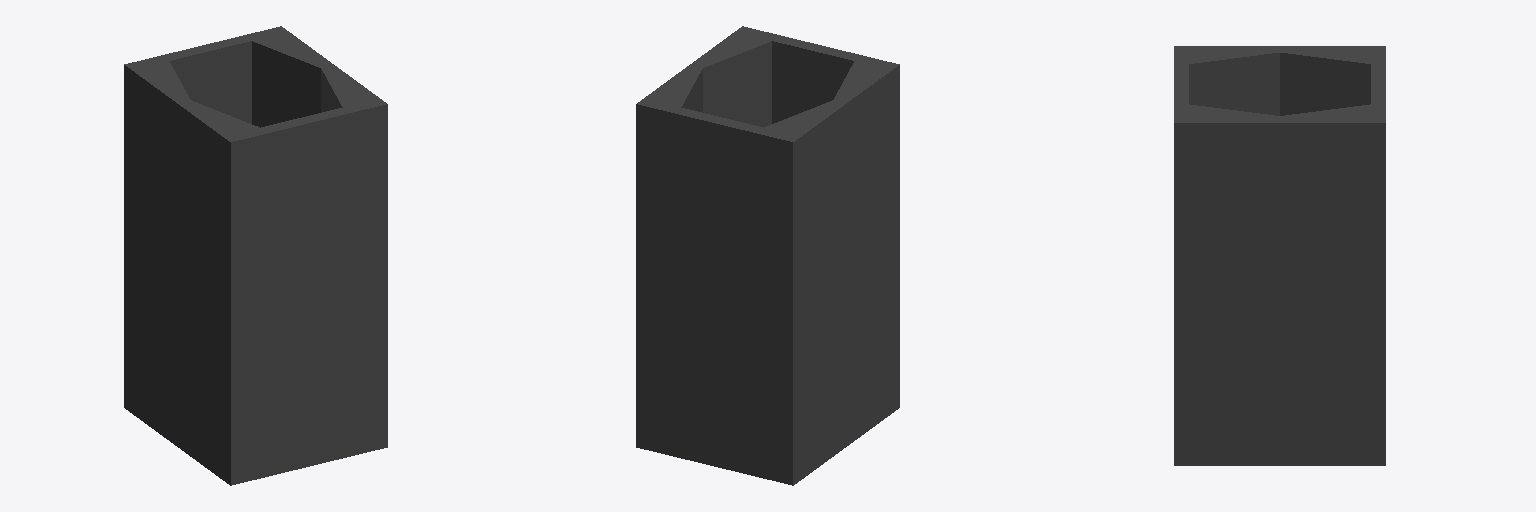
Rendered from Ybase.obj.
3 renders of one model, left to right at view 1: azimuth 30°, elevation 25°; view 2: azimuth 150°, elevation 25°; view 3: azimuth 270°, elevation 25°, orthographic.
Visible parts, largest first — view 1: ybase_Mesh_Mesh.001_Mesh.002_Ybase; view 2: ybase_Mesh_Mesh.001_Mesh.002_Ybase; view 3: ybase_Mesh_Mesh.001_Mesh.002_Ybase.
Part boxes in pixels (x1,y1,x2,y2): ybase_Mesh_Mesh.001_Mesh.002_Ybase: (124,26,387,485); ybase_Mesh_Mesh.001_Mesh.002_Ybase: (636,26,899,485); ybase_Mesh_Mesh.001_Mesh.002_Ybase: (1174,46,1385,465).
Size of the model in its own units: 175 by 365 by 205.